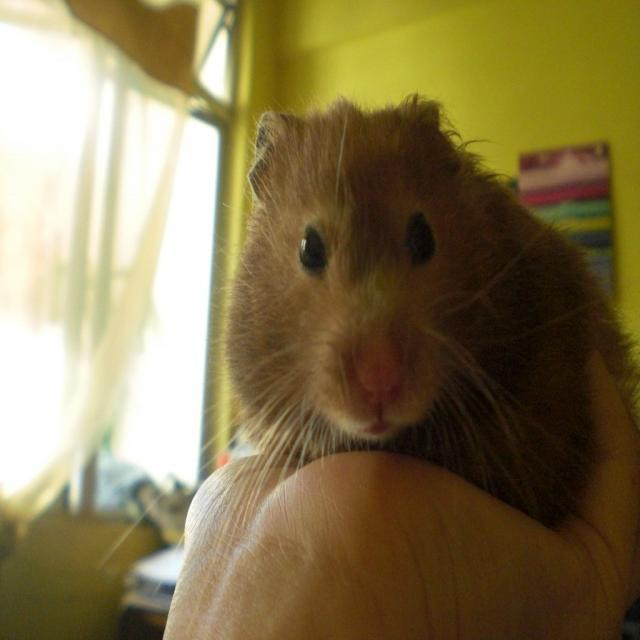rat: (100, 100, 640, 620)
